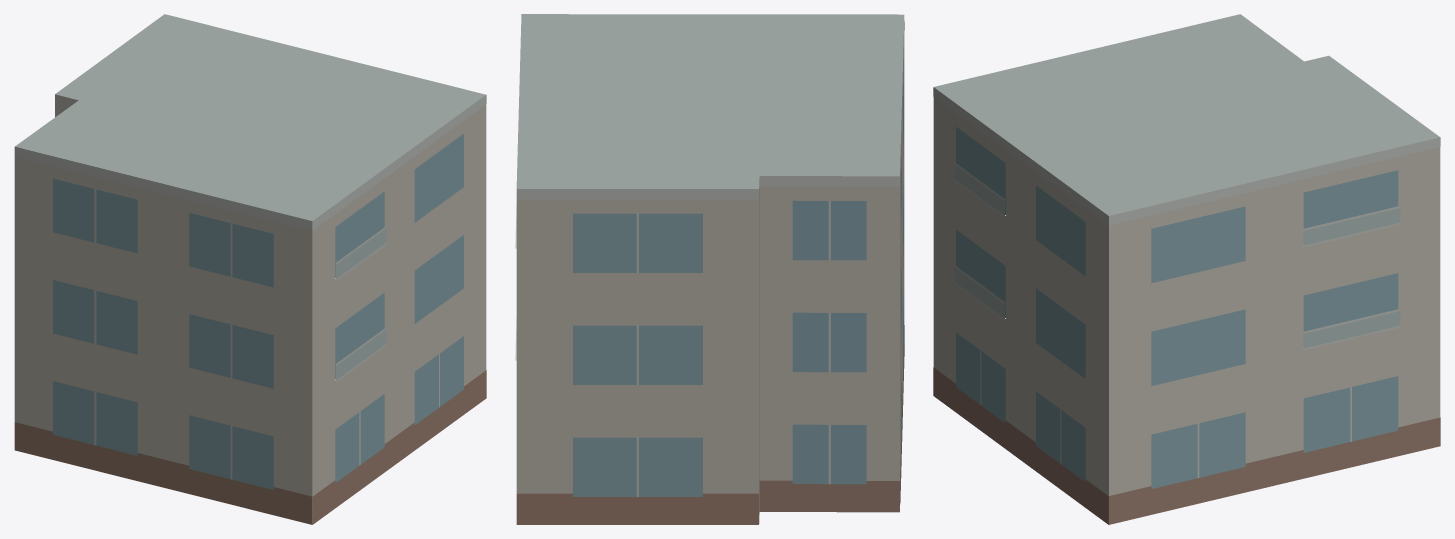
The model's file is survey-upis-32922478.glb.
The picture shows the model from 3 angles, left to right: view 1: azimuth 30°, elevation 25°; view 2: azimuth 150°, elevation 25°; view 3: azimuth 270°, elevation 25°; orthographic projection. The views are drawn at different scales.
Parts seen in each view (by area): view 1: survey-upis-32922478.tmp; view 2: survey-upis-32922478.tmp; view 3: survey-upis-32922478.tmp.
Boxes of the visible parts, x1,y1,x2,y2 form: survey-upis-32922478.tmp: [14, 14, 486, 524]; survey-upis-32922478.tmp: [515, 14, 904, 524]; survey-upis-32922478.tmp: [933, 14, 1440, 524].
Size of the model in its own units: 11.09 by 7.9 by 11.76.
